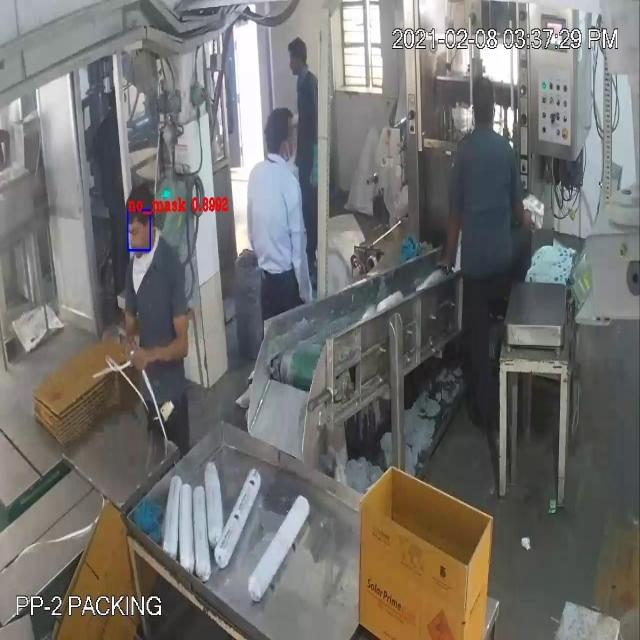No_Gloves: (122, 299, 194, 377)
